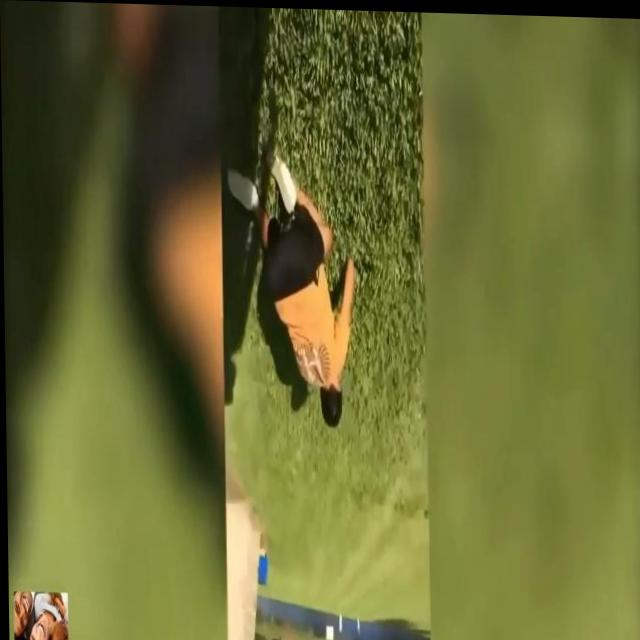fall: (222, 146, 362, 427)
